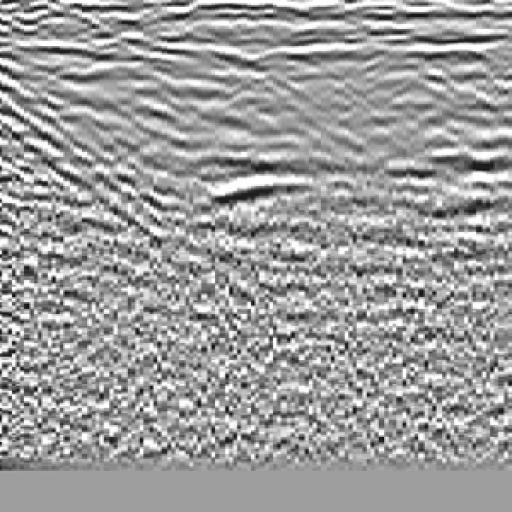metalic: (198, 40, 340, 266)
nonmetalic: (1, 30, 108, 269)
